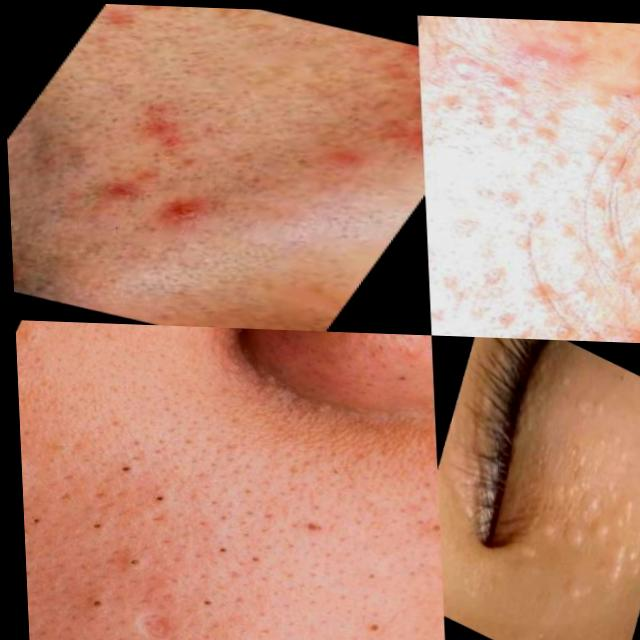8: (146, 184, 223, 230), (522, 36, 575, 76)
blackheads: (549, 437, 622, 528), (590, 469, 640, 599), (123, 605, 189, 640), (552, 567, 592, 607), (551, 512, 587, 552), (579, 506, 613, 548)
dark spot: (17, 493, 58, 596), (94, 434, 148, 484), (389, 496, 435, 545), (470, 245, 525, 285), (174, 579, 225, 622), (63, 587, 116, 623), (106, 539, 157, 576), (135, 473, 181, 513), (502, 196, 553, 232), (530, 307, 589, 337), (428, 79, 475, 112), (468, 172, 514, 205), (72, 504, 111, 538), (609, 69, 640, 106), (466, 103, 503, 133), (416, 338, 430, 397)
